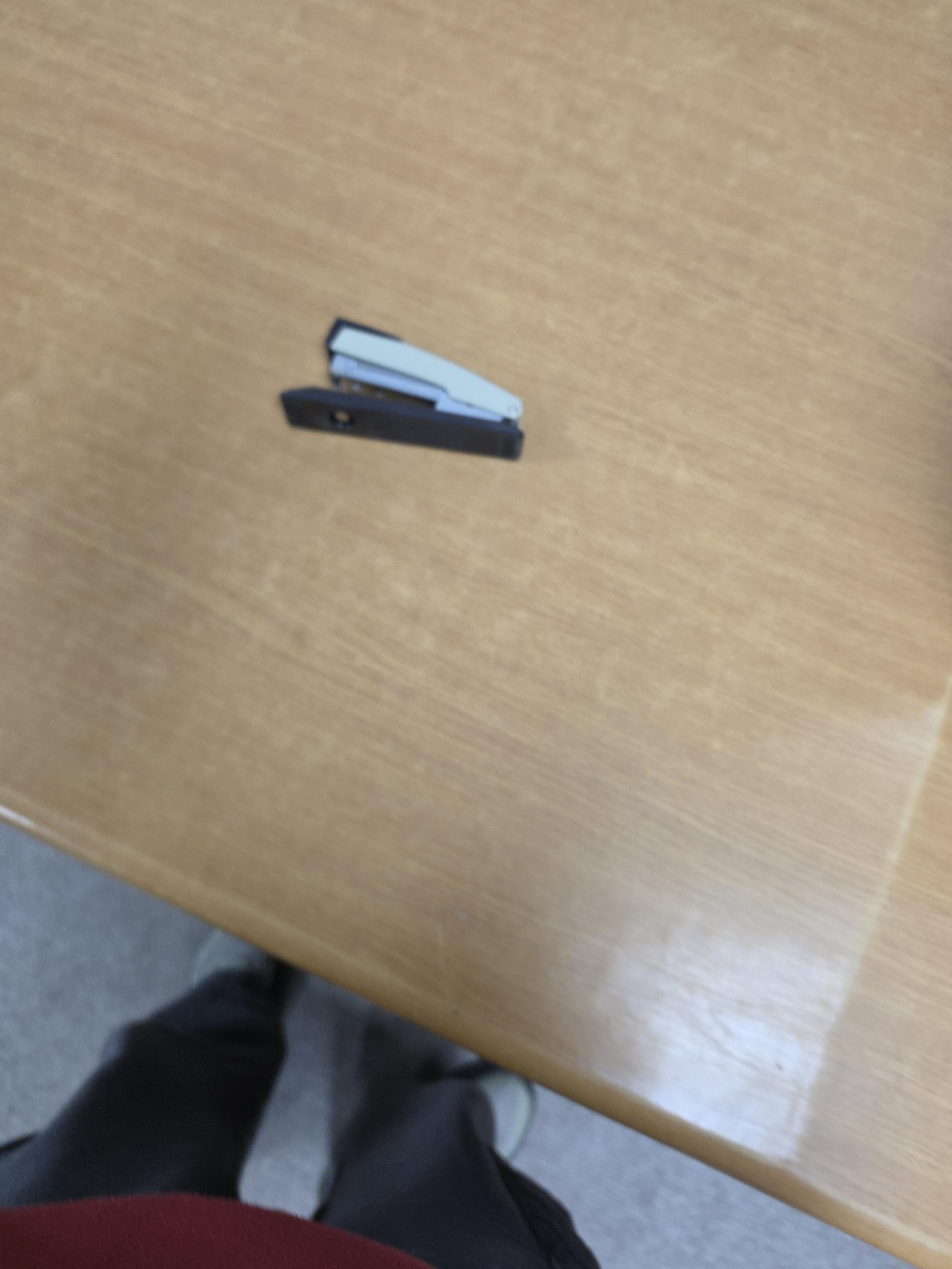stapler: (277, 316, 527, 463)
